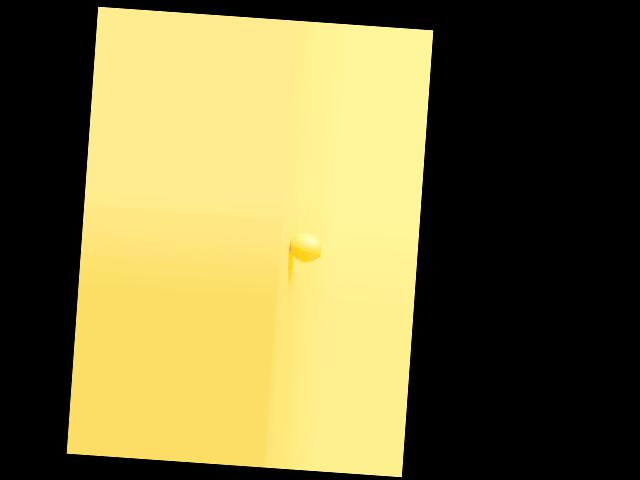lemon: (287, 224, 326, 266)
